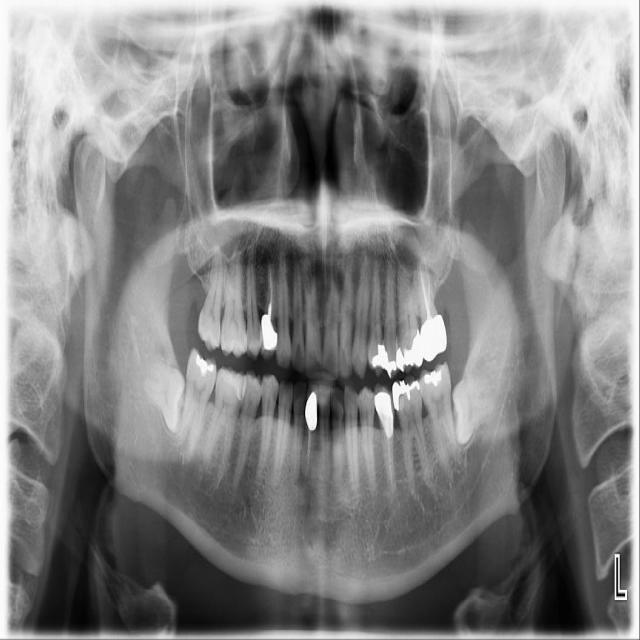Crown: (420, 314, 446, 361), (374, 391, 393, 440), (262, 315, 278, 351), (305, 392, 317, 432)
Filling: (390, 376, 423, 413), (396, 329, 423, 372), (220, 369, 246, 403), (419, 369, 448, 390), (194, 354, 216, 377), (383, 345, 397, 378), (372, 343, 384, 368)
Root Canal Treatment: (421, 270, 429, 313), (267, 268, 272, 315), (428, 269, 433, 311), (305, 433, 311, 458)
impacted tooth: (449, 356, 497, 444), (144, 359, 185, 433)
